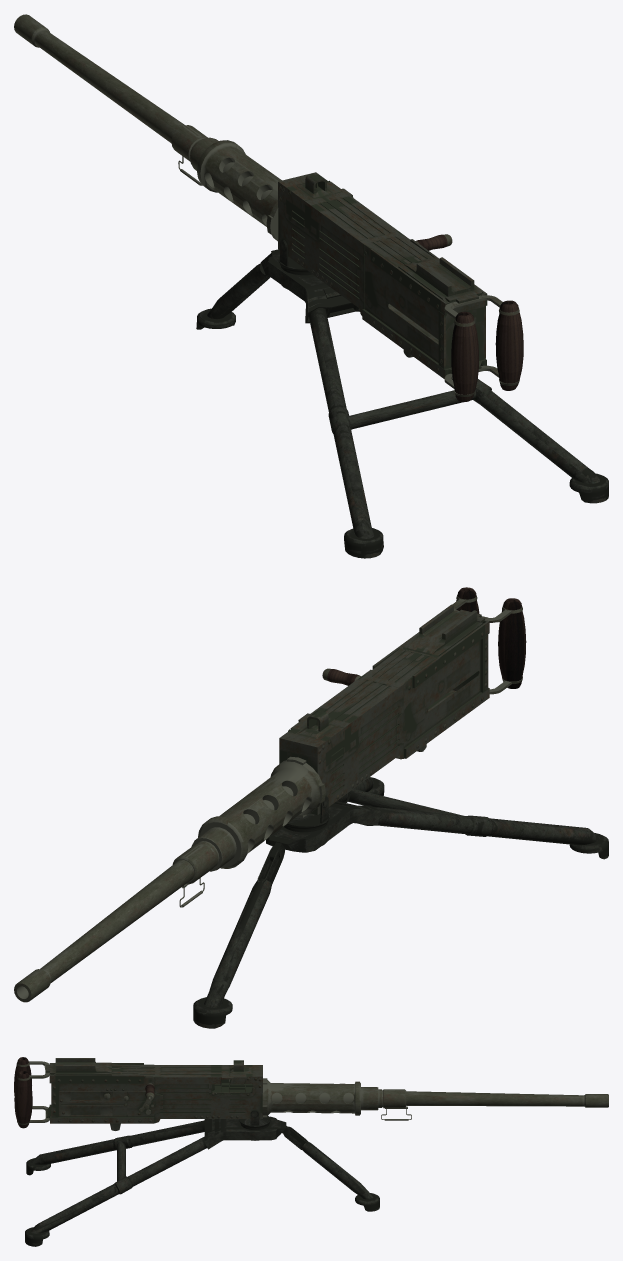
3 renders of one model, top to bottom at view 1: azimuth 30°, elevation 25°; view 2: azimuth 150°, elevation 25°; view 3: azimuth 270°, elevation 25°, orthographic. The views are drawn at different scales.
Visible parts, largest first — view 1: Body, Barrel, Tripod; view 2: Body, Barrel, Tripod; view 3: Body, Barrel, Tripod.
Boxes of the visible parts, x1=… form: Body: x1=278, y1=172, x2=487, y2=378; Barrel: x1=14, y1=14, x2=523, y2=402; Tripod: x1=196, y1=240, x2=608, y2=558; Body: x1=279, y1=604, x2=489, y2=814; Barrel: x1=14, y1=587, x2=526, y2=1002; Tripod: x1=193, y1=777, x2=608, y2=1028; Body: x1=46, y1=1058, x2=262, y2=1130; Barrel: x1=14, y1=1057, x2=608, y2=1128; Tripod: x1=25, y1=1110, x2=379, y2=1246.
Bounding box in the file's own units: 0.5215 × 0.4446 × 1.65.
3 materials, 3 textured.
